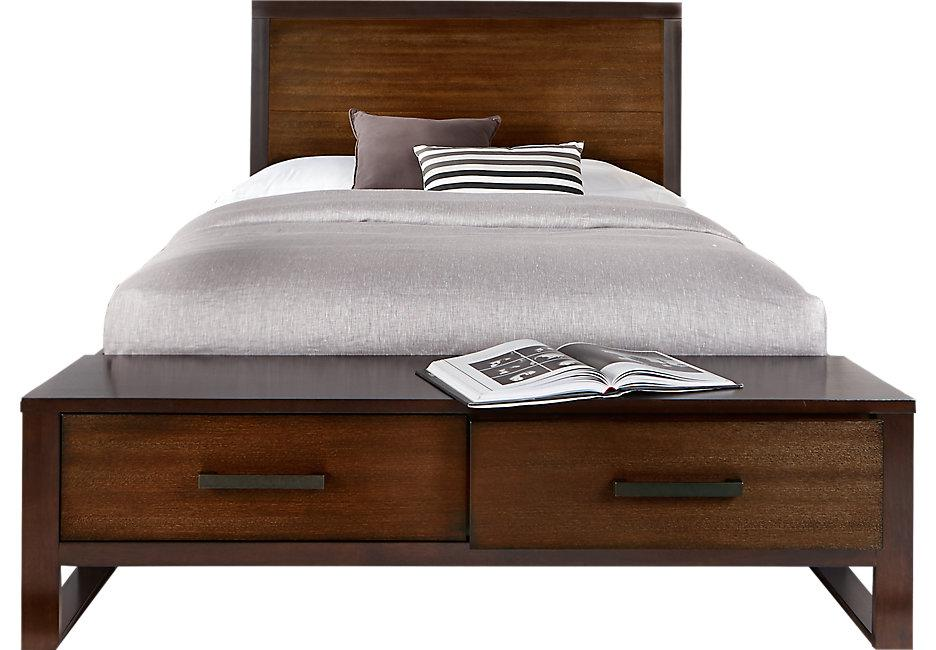bed: (28, 7, 890, 650)
